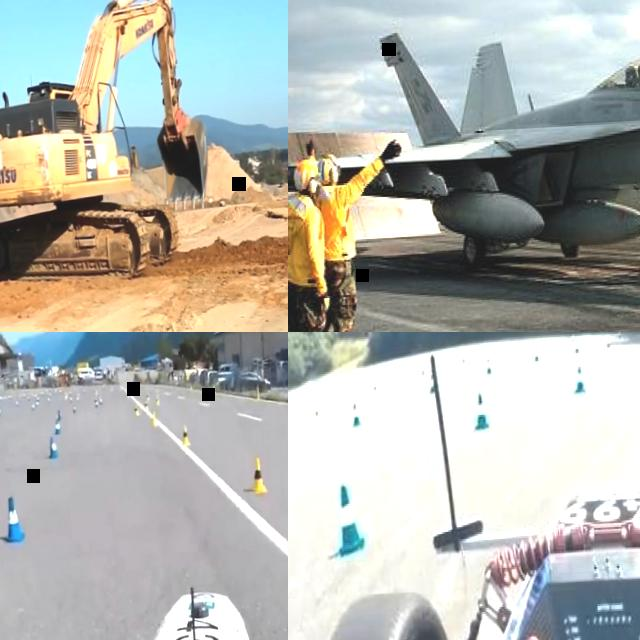Hardhat: (294, 162, 323, 195), (316, 154, 342, 186)
Person: (304, 130, 415, 332), (288, 159, 337, 332)
Safety Cone: (332, 484, 362, 554), (2, 492, 27, 546), (249, 452, 269, 494), (473, 392, 488, 428), (571, 364, 586, 398), (47, 434, 59, 461), (180, 422, 192, 448), (350, 400, 361, 426), (428, 370, 438, 398), (314, 408, 323, 430), (371, 382, 380, 404), (419, 369, 428, 391), (573, 340, 582, 362), (150, 408, 159, 428), (486, 356, 495, 376), (54, 419, 62, 434), (255, 383, 261, 401), (534, 346, 540, 364), (134, 402, 140, 418), (155, 392, 161, 407), (212, 383, 217, 395), (144, 400, 148, 413), (31, 404, 36, 414), (99, 394, 103, 406), (95, 398, 99, 410), (72, 404, 76, 415), (189, 383, 192, 391)
Safety Vest: (313, 181, 359, 261), (288, 194, 320, 288)
vehicle: (288, 332, 640, 640), (0, 0, 215, 285), (0, 573, 288, 640)
